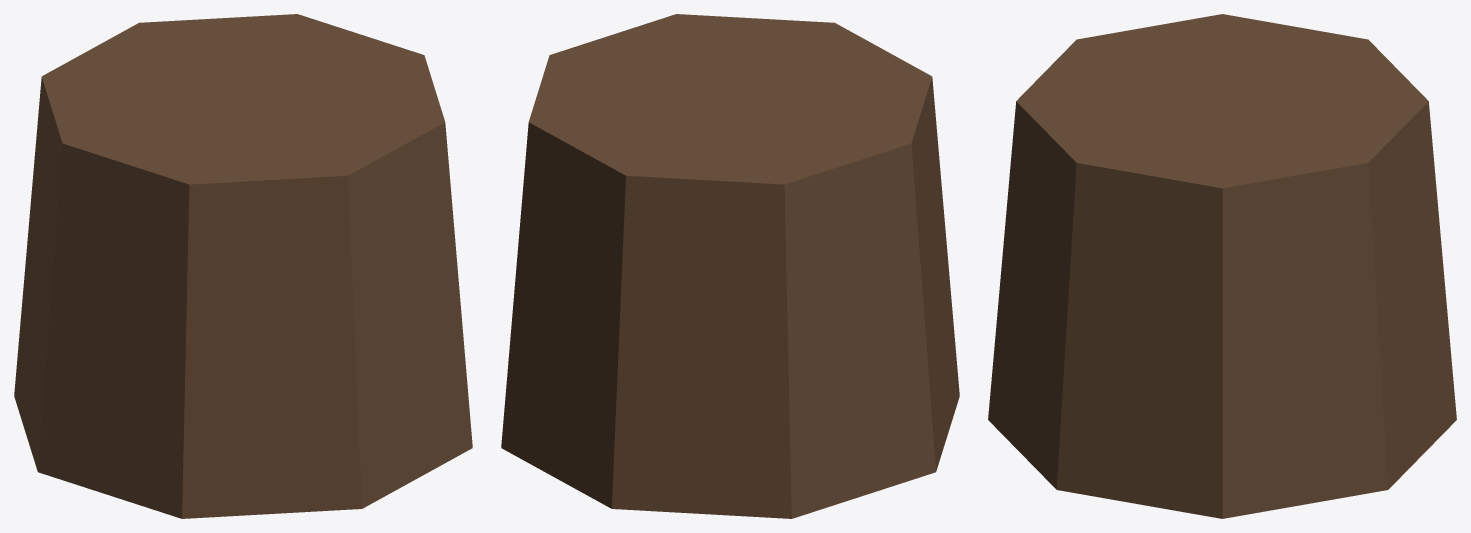
Rendered from stump.fbx.
The picture shows the model from 3 angles, left to right: view 1: azimuth 30°, elevation 25°; view 2: azimuth 150°, elevation 25°; view 3: azimuth 270°, elevation 25°; orthographic projection.
Visible parts, largest first — view 1: Stump; view 2: Stump; view 3: Stump.
Part boxes in pixels (x1,y1,x2,y2): Stump: (14,14,472,518); Stump: (501,14,959,518); Stump: (988,14,1456,518).
Bounding box in the file's own units: 0.56 × 0.42 × 0.56.
